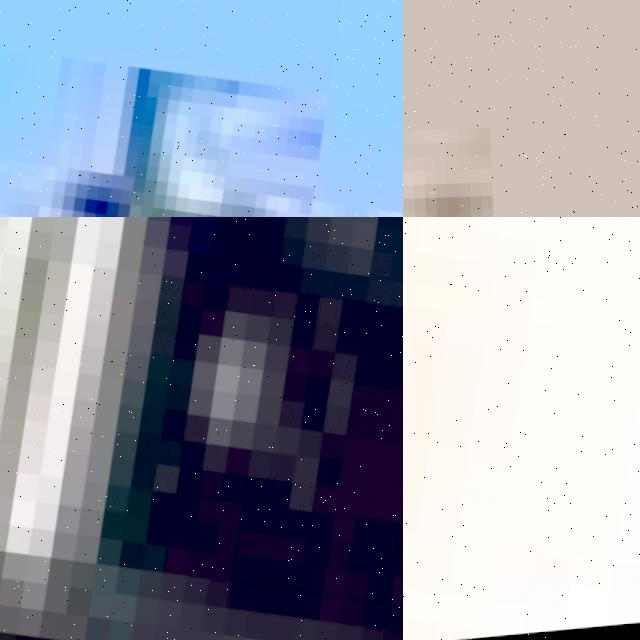drone: (0, 217, 403, 640), (403, 217, 640, 640), (0, 0, 403, 217)
